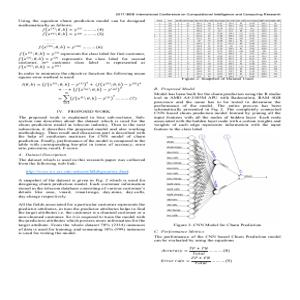diagram: (153, 135, 286, 220)
table: (152, 17, 285, 82)
text: (9, 18, 149, 239), (153, 17, 284, 81), (153, 85, 285, 133), (152, 227, 284, 267)
